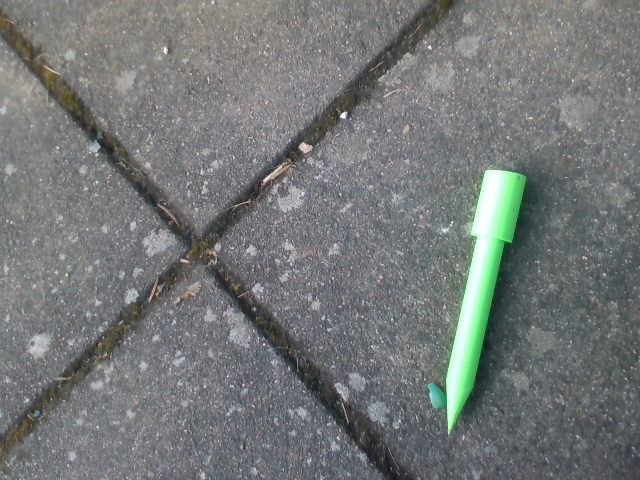Probe: (442, 165, 530, 438)
